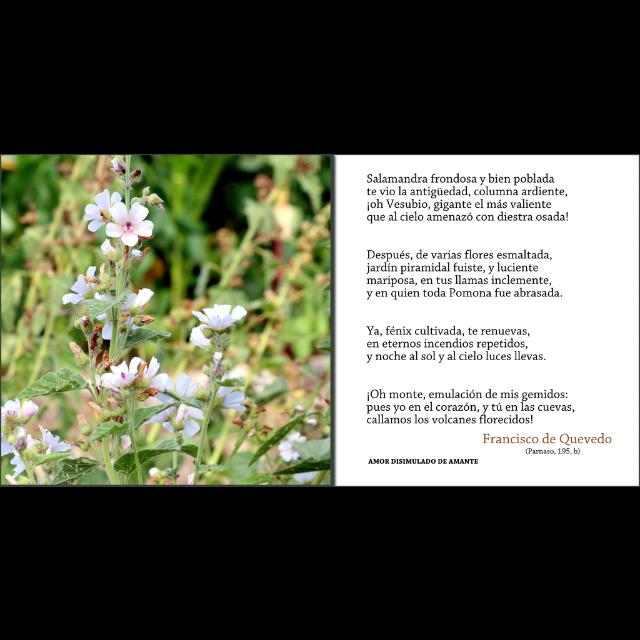Flower: (144, 372, 206, 432), (187, 294, 243, 338), (95, 291, 141, 341), (106, 200, 154, 246), (82, 186, 122, 232), (202, 373, 246, 411), (139, 357, 175, 403), (98, 354, 148, 386), (59, 264, 97, 306), (0, 396, 26, 454), (10, 433, 38, 477), (278, 428, 306, 464), (38, 425, 74, 451), (15, 396, 43, 422), (132, 284, 158, 308), (290, 468, 322, 484), (119, 434, 133, 454)
